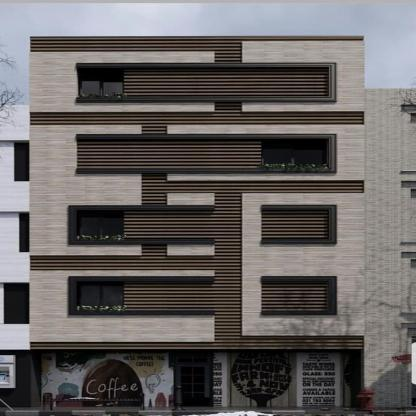Building Outline: (29, 35, 365, 410)
Cornice: (76, 134, 336, 140), (76, 63, 336, 68), (68, 276, 214, 282), (68, 205, 215, 210), (262, 204, 337, 212), (262, 276, 337, 283)
Deco: (30, 174, 363, 349), (30, 102, 364, 133), (30, 35, 365, 62), (125, 69, 328, 96), (76, 142, 261, 168), (262, 212, 329, 239), (262, 284, 329, 310)
Door: (176, 366, 209, 407)
Facade: (29, 35, 365, 410)
Sill: (77, 98, 337, 102), (77, 169, 337, 173), (69, 239, 214, 244), (70, 311, 214, 316), (262, 239, 337, 244), (262, 310, 337, 315)
Window: (262, 141, 327, 168), (78, 211, 124, 239), (79, 285, 121, 309), (82, 74, 123, 96), (176, 357, 209, 363)
